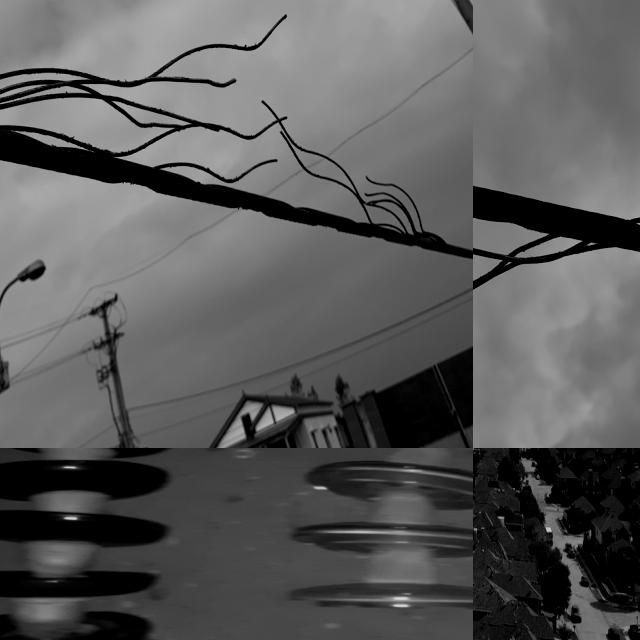正常绝缘子: (0, 448, 198, 640), (286, 448, 473, 612)
电缆破损: (0, 3, 456, 271), (473, 197, 640, 315)
